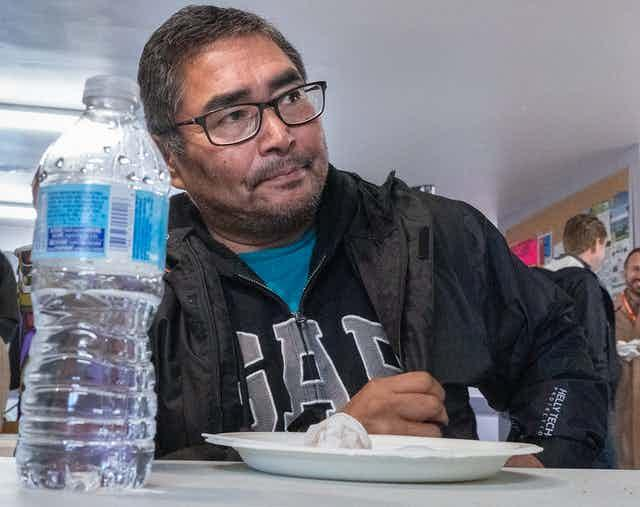bottle: (8, 64, 180, 502)
